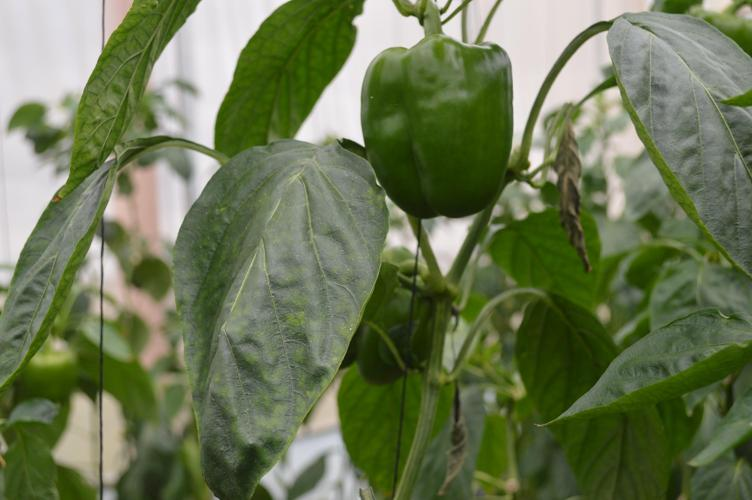BellPepper: (358, 37, 528, 218), (323, 258, 450, 383)
